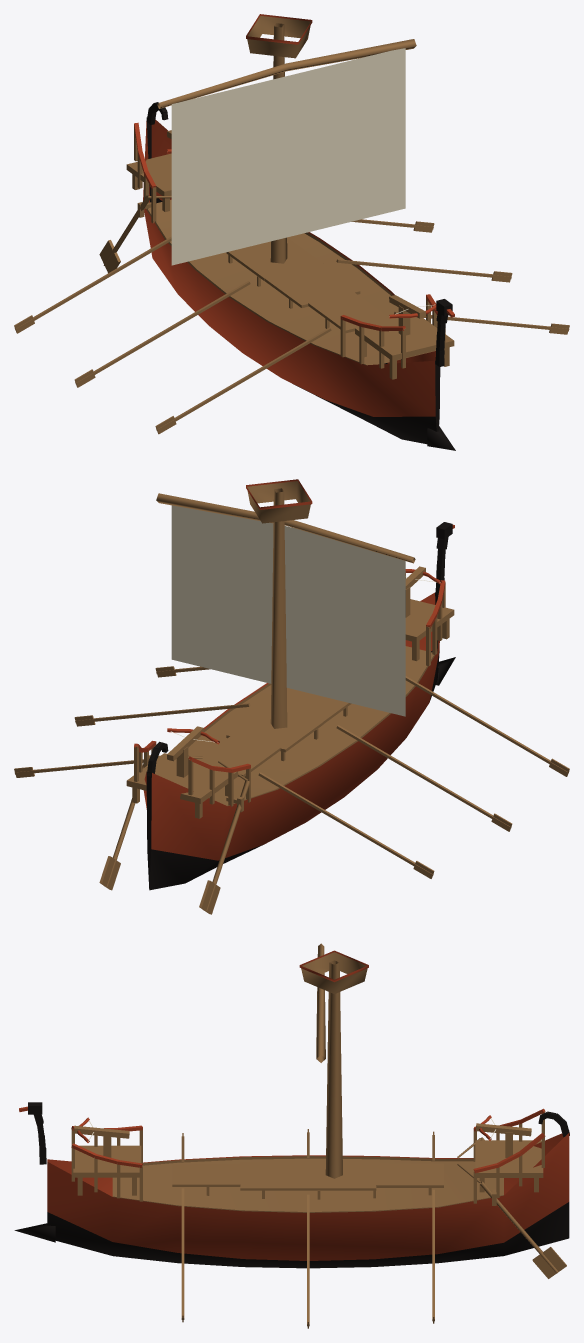
Rendered from ship_shipkiller_blockout_LOD2.obj.
3 views of the same model, one above another, from view 1: azimuth 30°, elevation 25°; view 2: azimuth 150°, elevation 25°; view 3: azimuth 270°, elevation 25° (orthographic). The views are drawn at different scales.
Parts seen in each view (by area): view 1: ship_shipkiller_blockout_LOD2; view 2: ship_shipkiller_blockout_LOD2; view 3: ship_shipkiller_blockout_LOD2.
Boxes of the visible parts, x1,y1,x2,y2 form: ship_shipkiller_blockout_LOD2: (14,14,569,450); ship_shipkiller_blockout_LOD2: (14,479,569,914); ship_shipkiller_blockout_LOD2: (14,943,569,1328).
Bounding box in the file's own units: 16.45 × 12.15 × 20.03.
